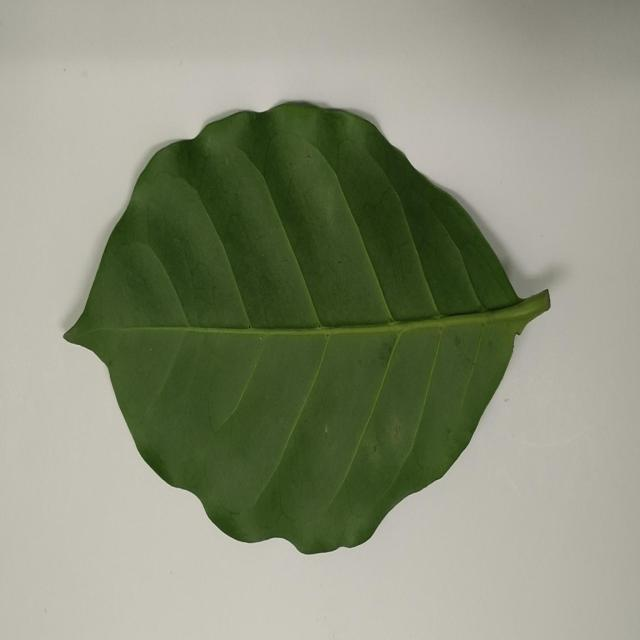Sanas: (63, 101, 552, 559)
